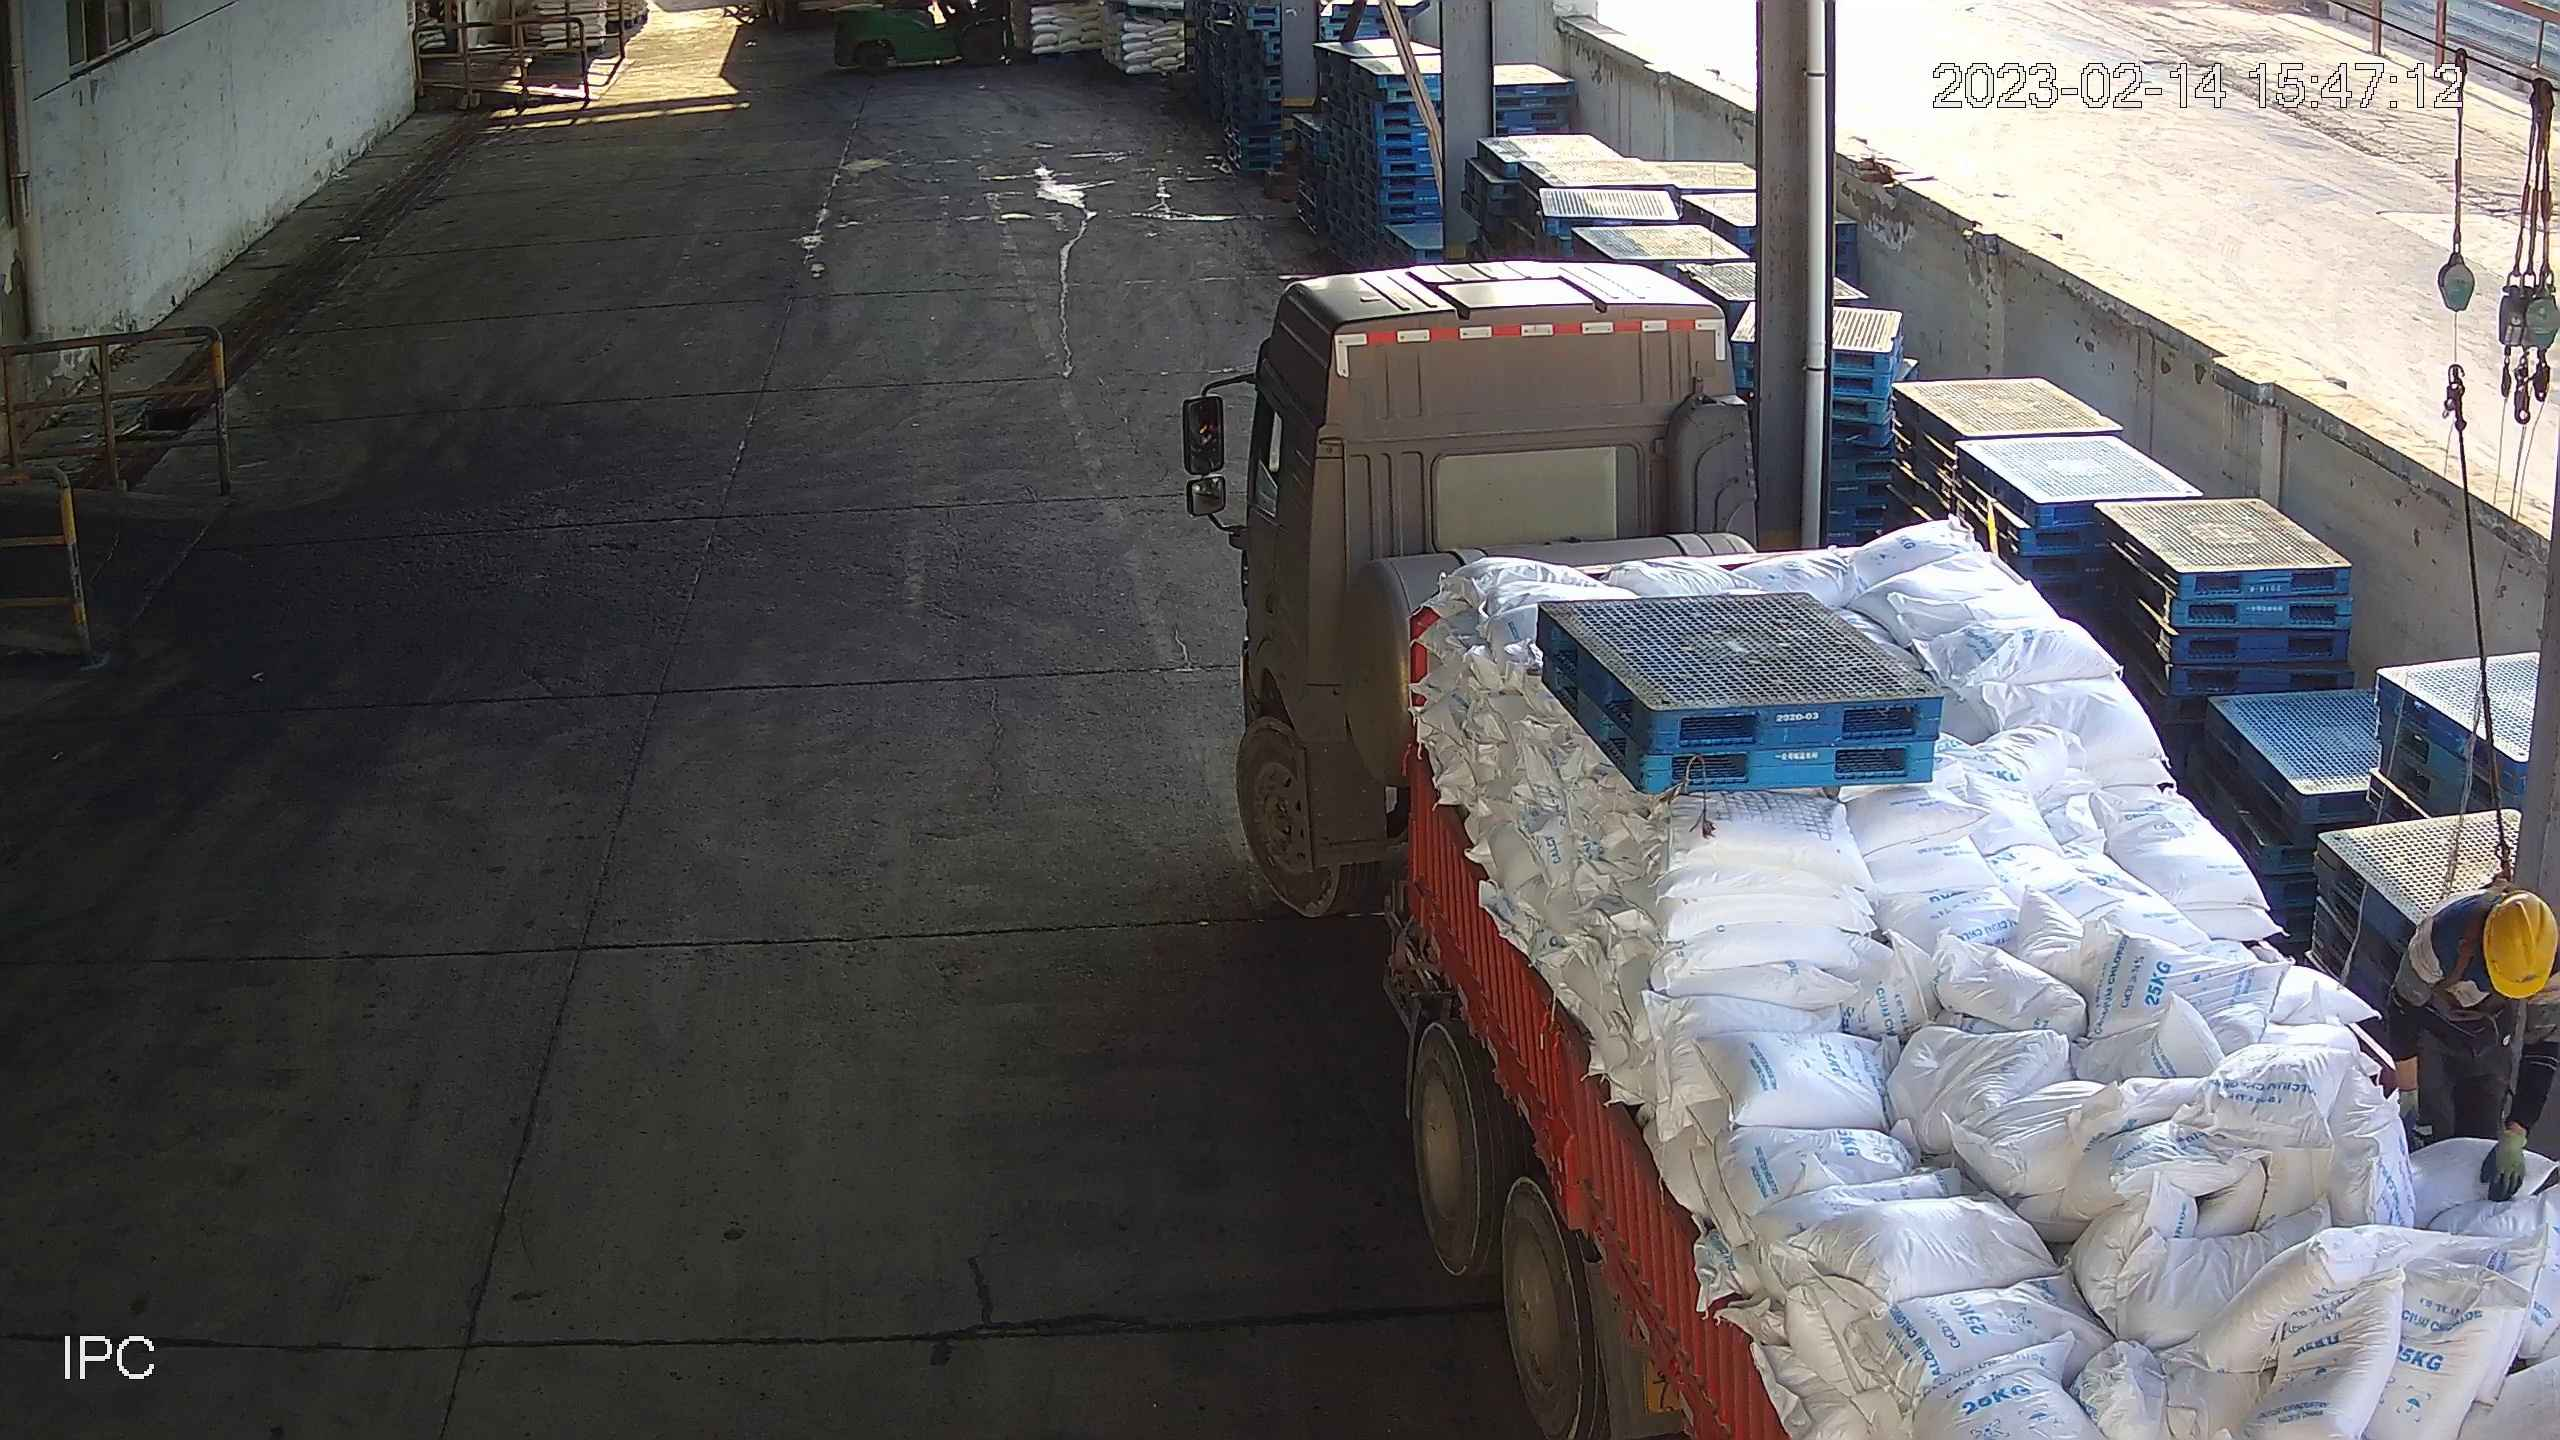belt: (2420, 838, 2541, 1027)
head: (2407, 888, 2560, 1005)
helmet: (2478, 887, 2560, 999)
people: (2384, 882, 2560, 1204)
truck: (1222, 255, 2560, 1440)
